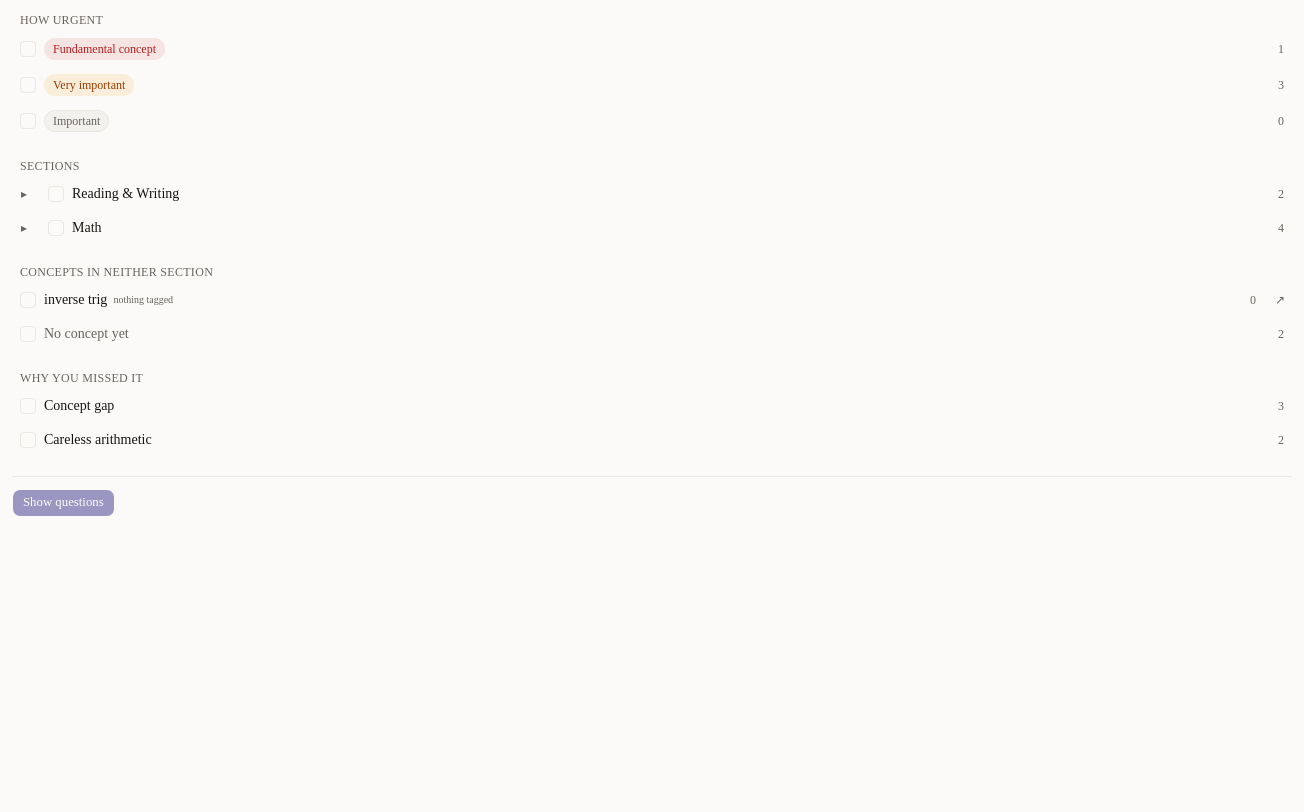
Test: Categories › keeps topics folded away until their section is expanded
The image size is (1304, 812).
Check: the heading "How urgent" is shown, box left=20, top=13, right=103, bottom=27
Check: the text "math fundamentals" is not shown
Click the button named "Expand Math": click(24, 228) left=12, top=216, right=36, bottom=240
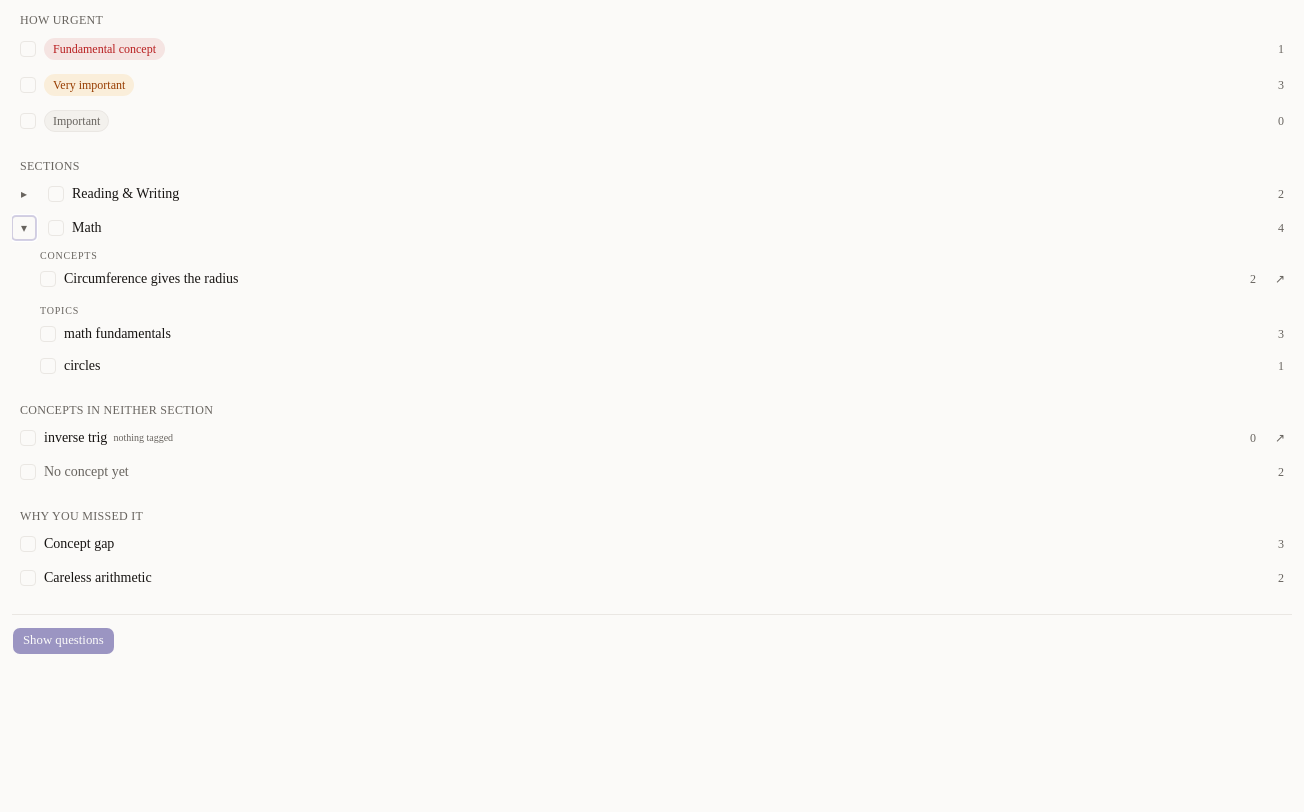
Check: the text "math fundamentals" is shown, box left=64, top=326, right=171, bottom=341
Check: the text "circles" is shown, box left=64, top=358, right=100, bottom=373
